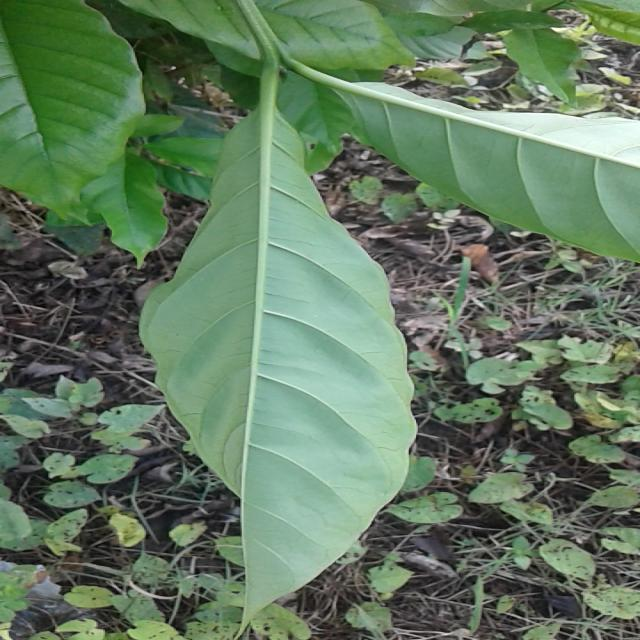Sanas: (139, 60, 419, 628)
